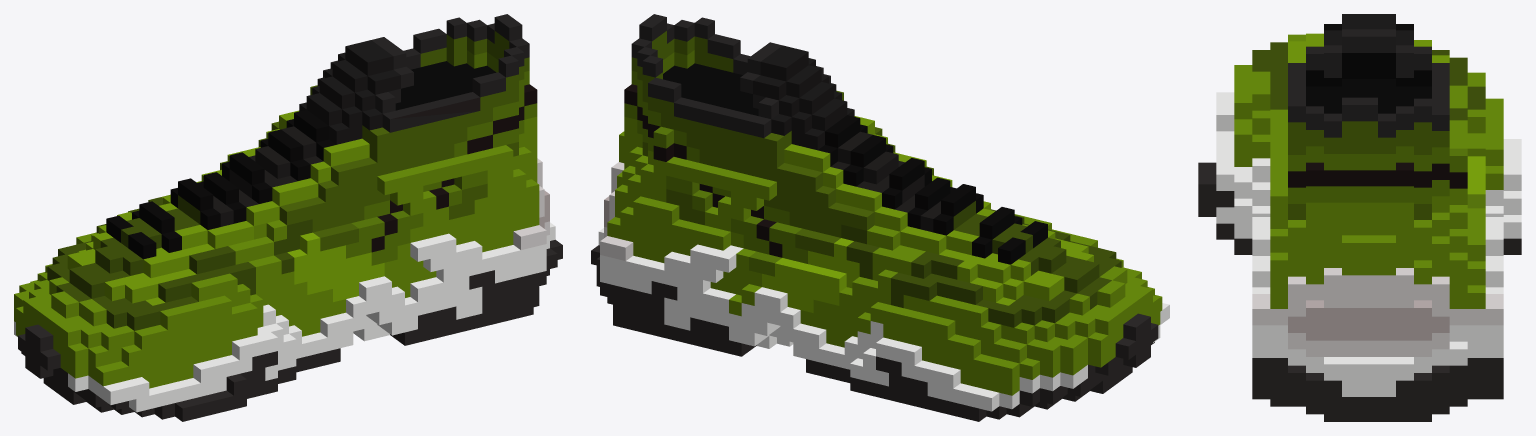
Rendered from Army.fbx.
The picture shows the model from 3 angles, left to right: view 1: azimuth 30°, elevation 25°; view 2: azimuth 150°, elevation 25°; view 3: azimuth 270°, elevation 25°; orthographic projection. The views are drawn at different scales.
Parts seen in each view (by area): view 1: Untitled; view 2: Untitled; view 3: Untitled.
Boxes of the visible parts, x1,y1,x2,y2 form: Untitled: [14, 14, 562, 421]; Untitled: [591, 14, 1169, 421]; Untitled: [1198, 14, 1521, 421].
Bounding box in the file's own units: 400 × 190 × 180.
